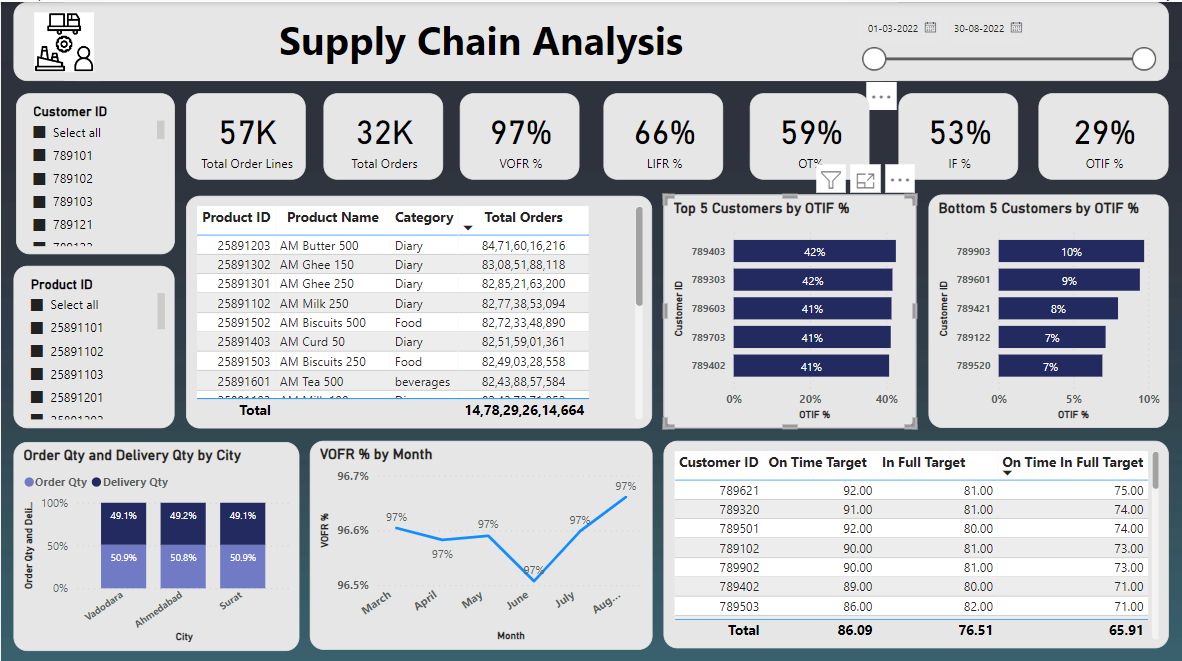

This screenshot's page, from the dashboard's own definition file:
{"tool":"powerbi","page":{"name":"Page 1","canvas":[1280,720],"ordinal":0},"visuals":[{"type":"card","fields":{"Values":["fact_order_lines.Total Order Lines"]},"box":[200.3,98.8,130,93.4],"z":0},{"type":"textbox","box":[16.2,0,902.9,85.3],"z":1000},{"type":"slicer","fields":{"Values":["fact_orders_aggregate.customer_id"]},"box":[16.2,98.8,171.9,174.6],"z":5000},{"type":"tableEx","fields":{"Values":["summarised_data.product_id","dim_products.product_name","dim_products.category","Sum(summarised_data.Total Orders)"]},"box":[200.3,209.8,523.9,251.8],"z":6000},{"type":"card","fields":{"Values":["fact_orders_aggregate.Total Orders"]},"box":[349.2,98.8,130,93.4],"z":7000},{"type":"card","fields":{"Values":["fact_order_lines.VOFR %"]},"box":[496.8,98.8,130,93.4],"z":8000},{"type":"card","fields":{"Values":["fact_order_lines.LIFR %"]},"box":[652.5,98.8,130,93.4],"z":9000},{"type":"card","fields":{"Values":["fact_orders_aggregate.OT%"]},"box":[810.8,98.8,130,93.4],"z":10000},{"type":"card","fields":{"Values":["fact_orders_aggregate.IF %"]},"box":[971.9,98.8,130,93.4],"z":11000},{"type":"card","fields":{"Values":["fact_orders_aggregate.OTIF %"]},"box":[1123.5,98.8,140.8,93.4],"z":12000},{"type":"slicer","fields":{"Values":["dim_date.date"]},"box":[940.8,0,323.5,85.3],"z":13000},{"type":"slicer","fields":{"Values":["fact_order_lines.product_id"]},"box":[13.5,285.6,178.7,176],"z":15000},{"type":"barChart","title":"Top 5 Customers by OTIF %","fields":{"Y":["fact_orders_aggregate.OTIF %"],"Category":["fact_orders_aggregate.customer_id"]},"box":[737.7,208.5,268,253.1],"z":16000},{"type":"barChart","title":"Bottom 5 Customers by OTIF %","fields":{"Y":["fact_orders_aggregate.OTIF %"],"Category":["fact_orders_aggregate.customer_id"]},"box":[1015.2,208.5,249.1,253.1],"z":17000},{"type":"lineChart","fields":{"Y":["fact_order_lines.VOFR %"],"Category":["dim_date.mmm_yy.Variation.Date Hierarchy.Year","dim_date.mmm_yy.Variation.Date Hierarchy.Quarter","dim_date.mmm_yy.Variation.Date Hierarchy.Month","dim_date.mmm_yy.Variation.Date Hierarchy.Day"]},"box":[334.4,475.1,389.9,226.1],"z":18000},{"type":"hundredPercentStackedColumnChart","fields":{"Category":["dim_customers.city"],"Y":["Sum(fact_order_lines.order_qty)","Sum(fact_order_lines.delivery_qty)"]},"box":[9.5,475.1,310,226.1],"z":18001},{"type":"tableEx","fields":{"Values":["dim_targets_orders.customer_id","dim_targets_orders.On Time Target","dim_targets_orders.In Full Target","dim_targets_orders.On Time In Full Target"]},"box":[737.7,475.1,526.6,224.7],"z":18002}]}

Visuals, with their boxes in screenshot pixels (x1, y1, x2, y2), scaled from the page's 1280x720 canvas onto the 1182x661 screenshot:
card - fact_order_lines.Total Order Lines: 185:91:305:176
textbox: 15:0:849:78
slicer - fact_orders_aggregate.customer_id: 15:91:174:251
tableEx - summarised_data.product_id x dim_products.product_name: 185:193:669:424
card - fact_orders_aggregate.Total Orders: 322:91:443:176
card - fact_order_lines.VOFR %: 459:91:579:176
card - fact_order_lines.LIFR %: 603:91:723:176
card - fact_orders_aggregate.OT%: 749:91:869:176
card - fact_orders_aggregate.IF %: 897:91:1018:176
card - fact_orders_aggregate.OTIF %: 1037:91:1168:176
slicer - dim_date.date: 869:0:1168:78
slicer - fact_order_lines.product_id: 12:262:177:424
"Top 5 Customers by OTIF %" barChart: 681:191:929:424
"Bottom 5 Customers by OTIF %" barChart: 937:191:1168:424
lineChart - fact_order_lines.VOFR % x dim_date.mmm_yy.Variation.Date Hierarchy.Year: 309:436:669:644
hundredPercentStackedColumnChart - dim_customers.city x Sum(fact_order_lines.order_qty): 9:436:295:644
tableEx - dim_targets_orders.customer_id x dim_targets_orders.On Time Target: 681:436:1168:642
